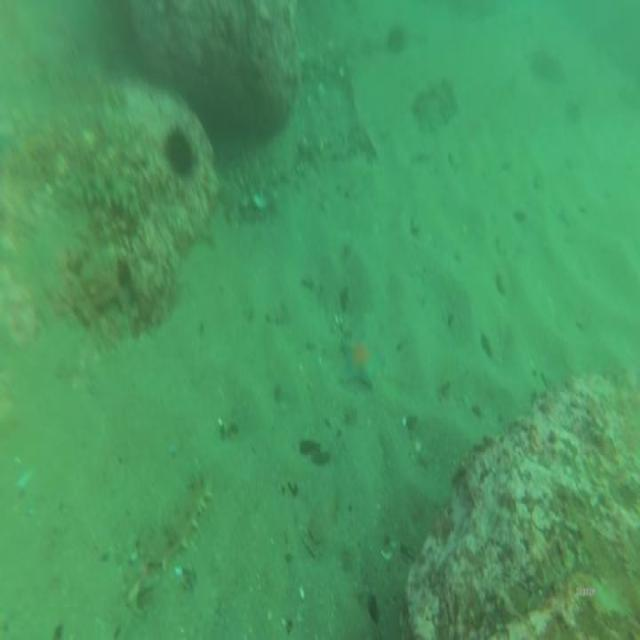echinus: (162, 120, 196, 182)
holothurian: (117, 460, 215, 605)
starfish: (334, 322, 385, 398)
